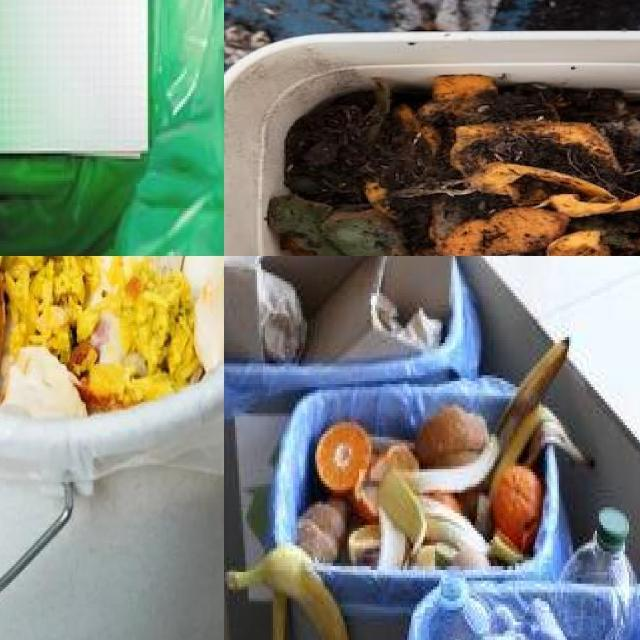Garbage: (269, 75, 640, 256), (224, 406, 524, 582), (0, 256, 224, 429), (224, 256, 453, 362), (493, 409, 579, 532), (496, 337, 568, 449), (560, 507, 636, 584), (493, 466, 544, 554)
Plastic: (429, 575, 490, 640), (483, 599, 562, 640)
contaminated_waste: (563, 507, 634, 584)
